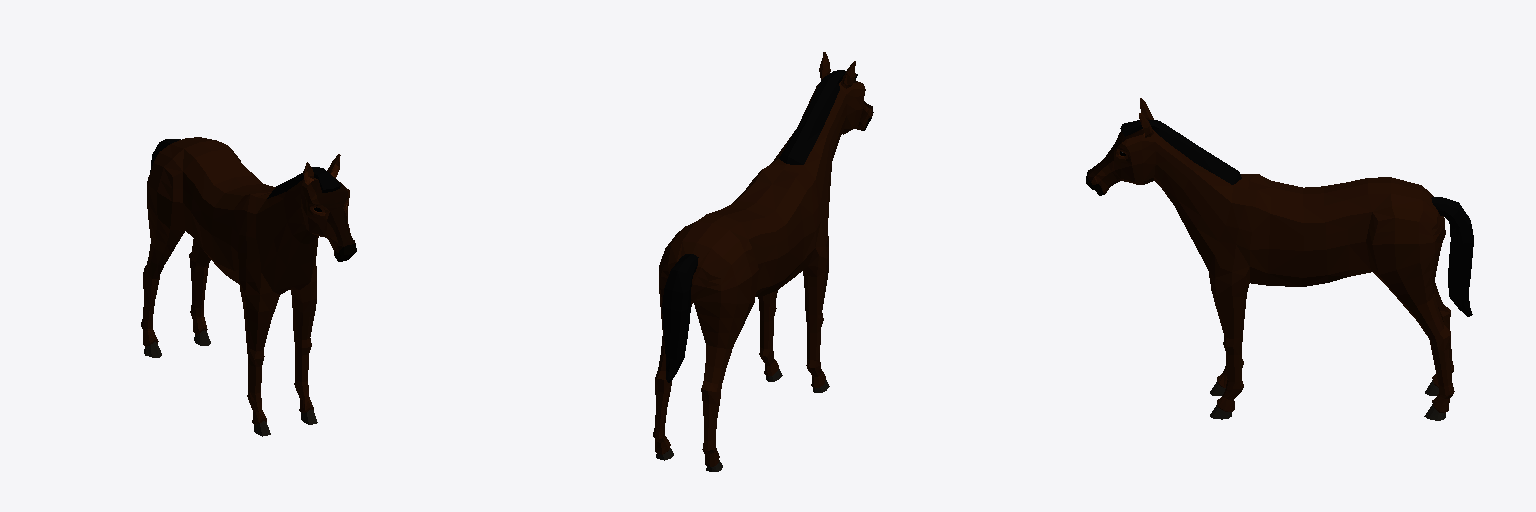
File: Horse.obj
3 renders of one model, left to right at view 1: azimuth 30°, elevation 25°; view 2: azimuth 150°, elevation 25°; view 3: azimuth 270°, elevation 25°, orthographic.
Visible parts, largest first — view 1: Horse_Cube; view 2: Horse_Cube; view 3: Horse_Cube.
Boxes of the visible parts, x1,y1,x2,y2 form: Horse_Cube: [141, 137, 356, 436]; Horse_Cube: [653, 52, 873, 471]; Horse_Cube: [1086, 98, 1473, 420].
Size of the model in its own units: 1.41 by 4.83 by 5.69.